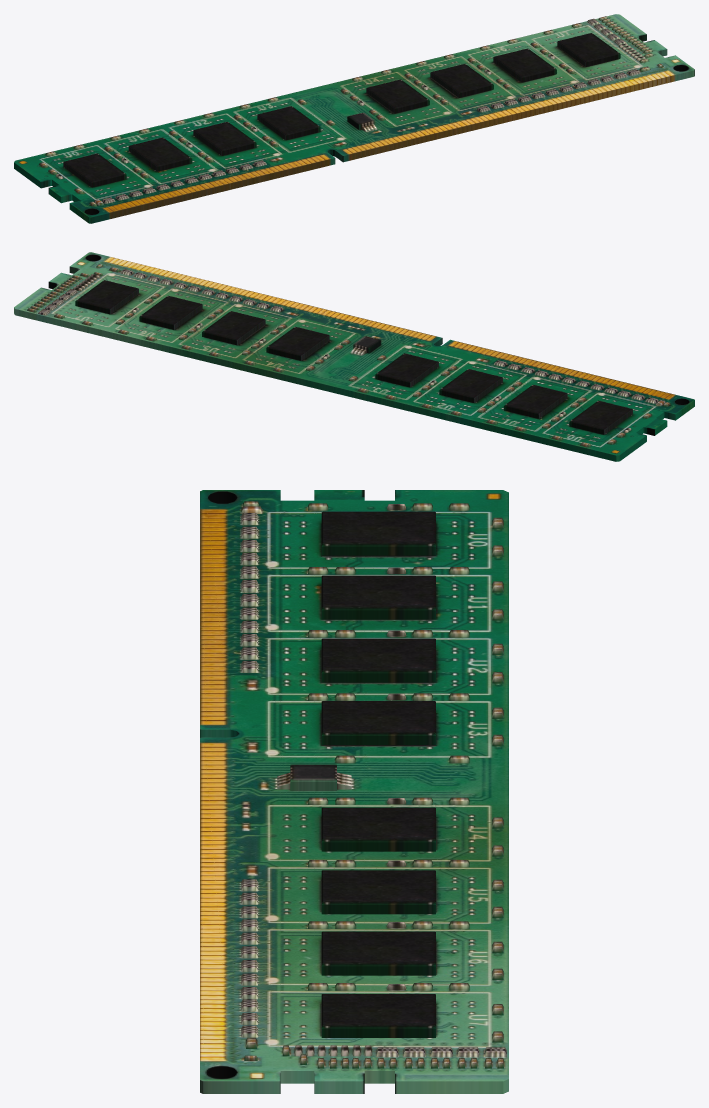
The model's file is RamStick.glb.
3 views of the same model, one above another, from view 1: azimuth 30°, elevation 25°; view 2: azimuth 150°, elevation 25°; view 3: azimuth 270°, elevation 25° (orthographic). The views are drawn at different scales.
Parts seen in each view (by area): view 1: RamStick; view 2: RamStick; view 3: RamStick.
Part boxes in pixels (x1=…): RamStick: x1=14, y1=14, x2=694, y2=223; RamStick: x1=14, y1=252, x2=694, y2=461; RamStick: x1=200, y1=490, x2=508, y2=1093.
Bounding box in the file's own units: 19.53 × 0.3541 × 4.32.
Materials: 1 (1 with a texture image).
